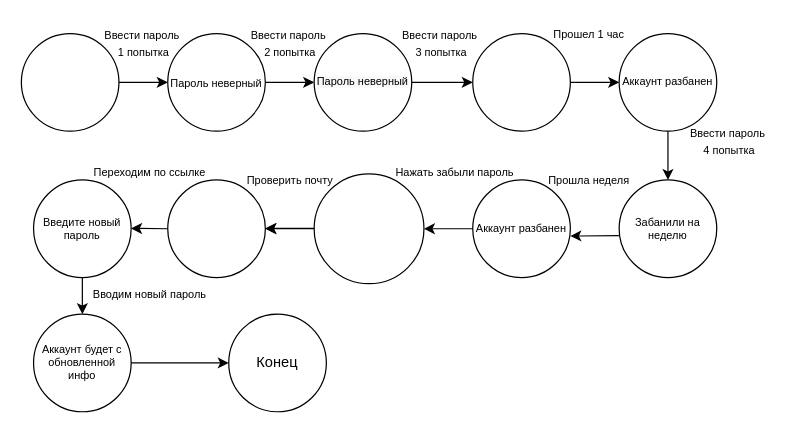
The diagram is 799 pixels wide and 433 high, and some of its shapes have lost their labels. Each missing label, with the centre of its shape:
В письме ссылка для восстановления: (216,228)
Выслан пароль на электронную почту: (368,228)
Забанили на час: (521,81)
Начало: (69,81)
